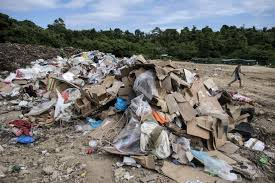garbage: (87, 64, 222, 169), (37, 58, 197, 146), (140, 87, 256, 183)
